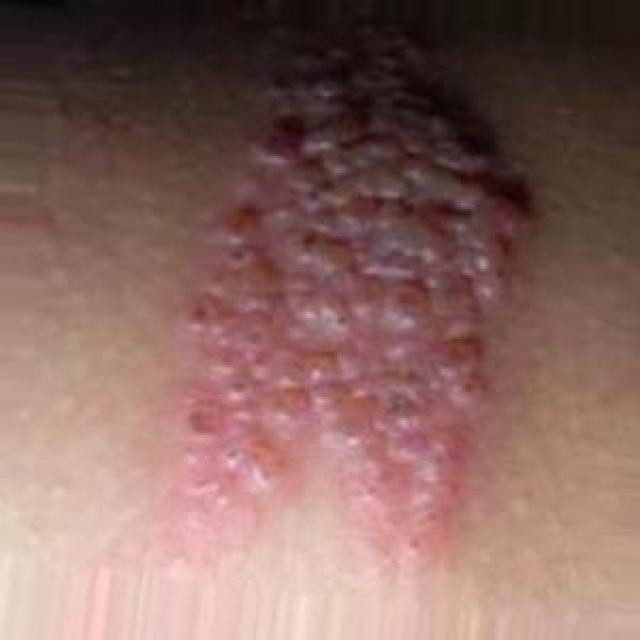Shingles: (162, 23, 533, 569)
